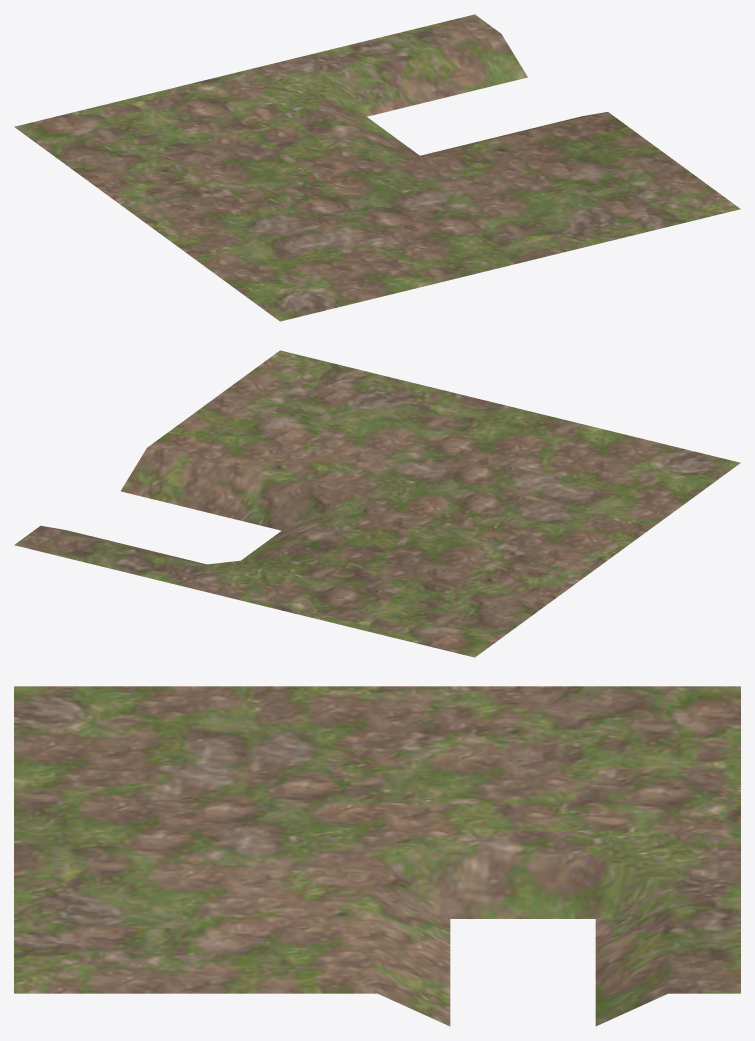
Rendered from ground4.FBX.
3 views of the same model, one above another, from view 1: azimuth 30°, elevation 25°; view 2: azimuth 150°, elevation 25°; view 3: azimuth 270°, elevation 25° (orthographic). The views are drawn at different scales.
Visible parts, largest first — view 1: ground4; view 2: ground4; view 3: ground4.
Boxes of the visible parts, left/top/right/bottom form: ground4: left=14, top=14, right=740, bottom=321; ground4: left=14, top=350, right=740, bottom=657; ground4: left=14, top=686, right=740, bottom=1026.
Size of the model in its own units: 200 by 10 by 200.
